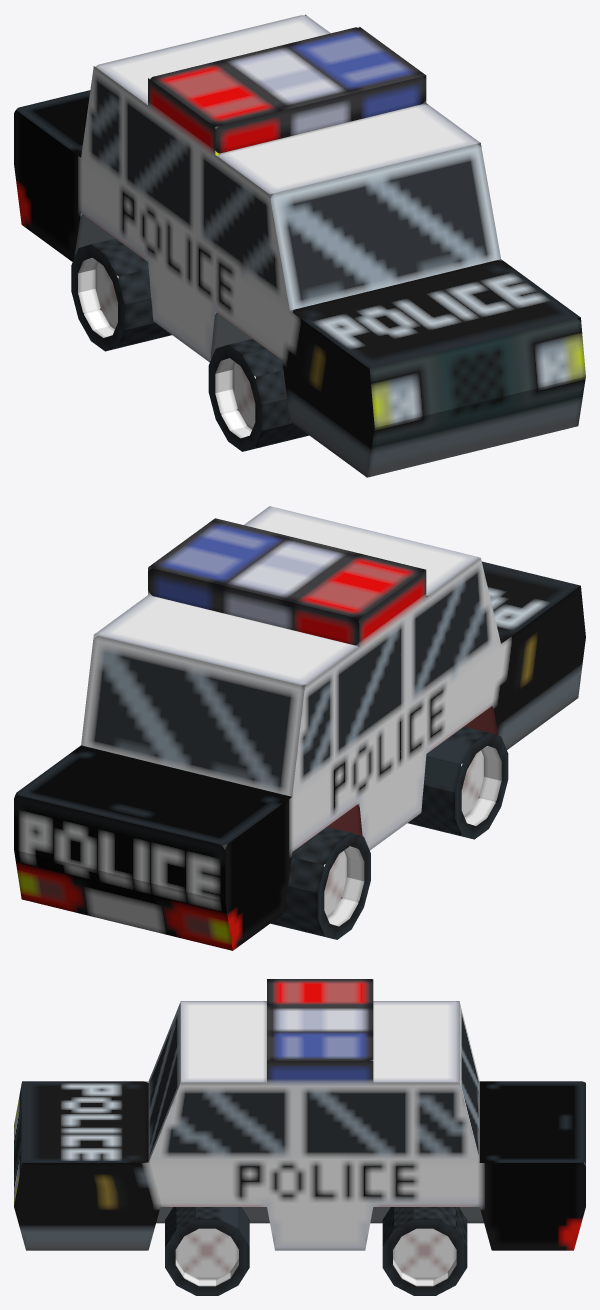
The model's file is PoliceCar1.fbx.
3 renders of one model, top to bottom at view 1: azimuth 30°, elevation 25°; view 2: azimuth 150°, elevation 25°; view 3: azimuth 270°, elevation 25°, orthographic. The views are drawn at different scales.
Parts seen in each view (by area): view 1: body, cylinder_2, cylinder; view 2: body, cylinder, cylinder_2; view 3: body, cylinder_3, cylinder_1.
Boxes of the visible parts, box(x1,y1,x2,y2) form: body: box(14, 14, 585, 477); cylinder_2: box(71, 238, 171, 351); cylinder: box(208, 338, 308, 451); body: box(14, 506, 585, 950); cylinder: box(407, 726, 508, 839); cylinder_2: box(270, 827, 370, 939); body: box(14, 979, 585, 1250); cylinder_3: box(382, 1207, 467, 1295); cylinder_1: box(165, 1207, 249, 1295).
Bounding box in the file's own units: 175 × 195 × 444.
1 material, 1 textured.
